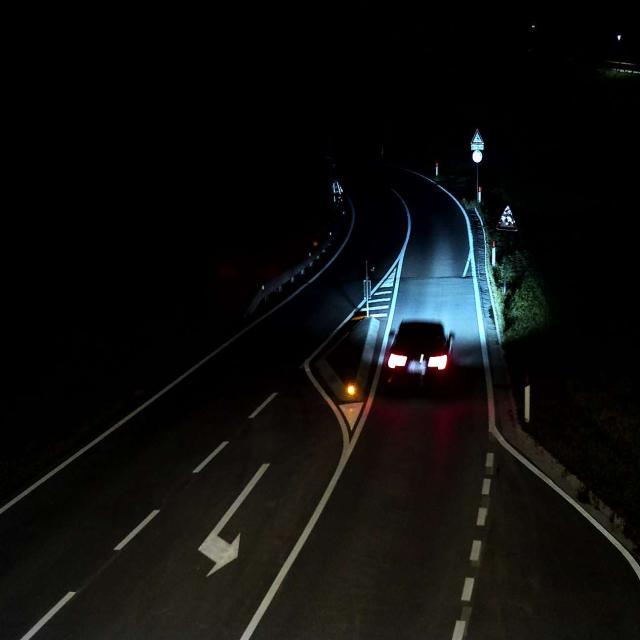car: (386, 319, 453, 393)
